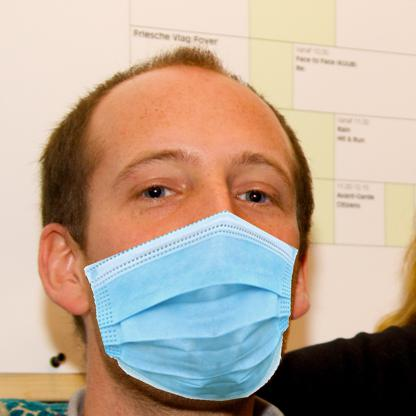mask: (83, 211, 300, 407)
